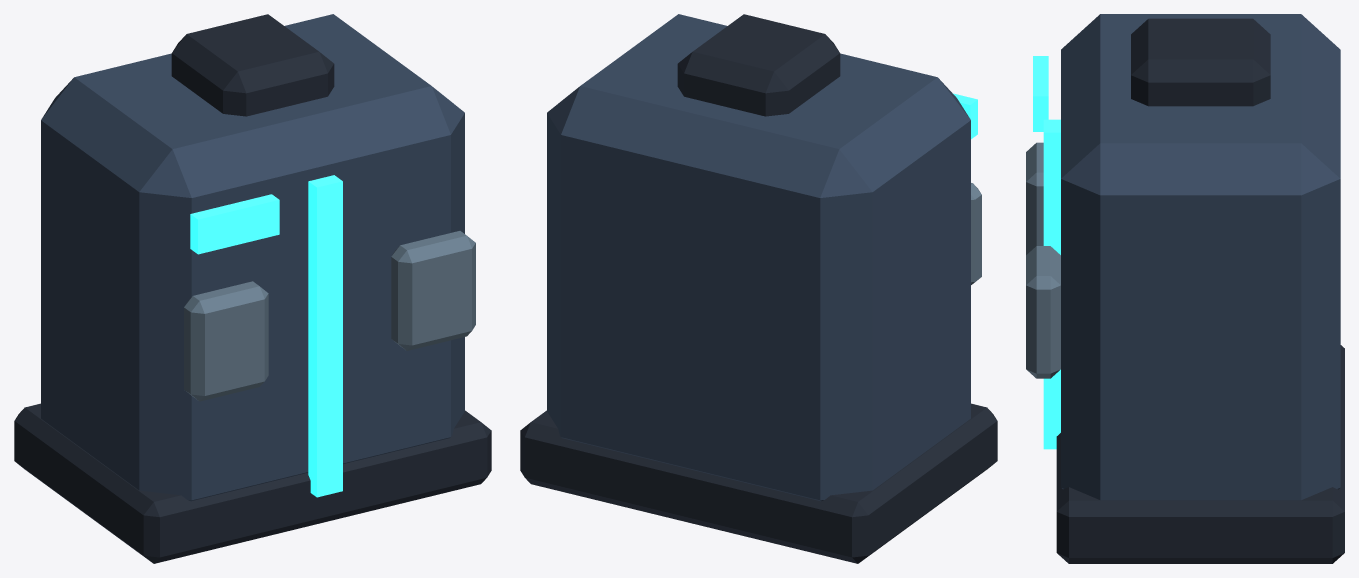
Rendered from SM_NPC_Torso_002_JacketFemale.glb.
3 renders of one model, left to right at view 1: azimuth 30°, elevation 25°; view 2: azimuth 150°, elevation 25°; view 3: azimuth 270°, elevation 25°, orthographic. The views are drawn at different scales.
Parts seen in each view (by area): view 1: SM_NPC_Torso_002_JacketFemale; view 2: SM_NPC_Torso_002_JacketFemale; view 3: SM_NPC_Torso_002_JacketFemale.
Boxes of the visible parts, x1=… form: SM_NPC_Torso_002_JacketFemale: x1=14, y1=14, x2=491, y2=563; SM_NPC_Torso_002_JacketFemale: x1=520, y1=14, x2=997, y2=563; SM_NPC_Torso_002_JacketFemale: x1=1026, y1=14, x2=1344, y2=563.
Bounding box in the file's own units: 0.47 × 0.56 × 0.365.
